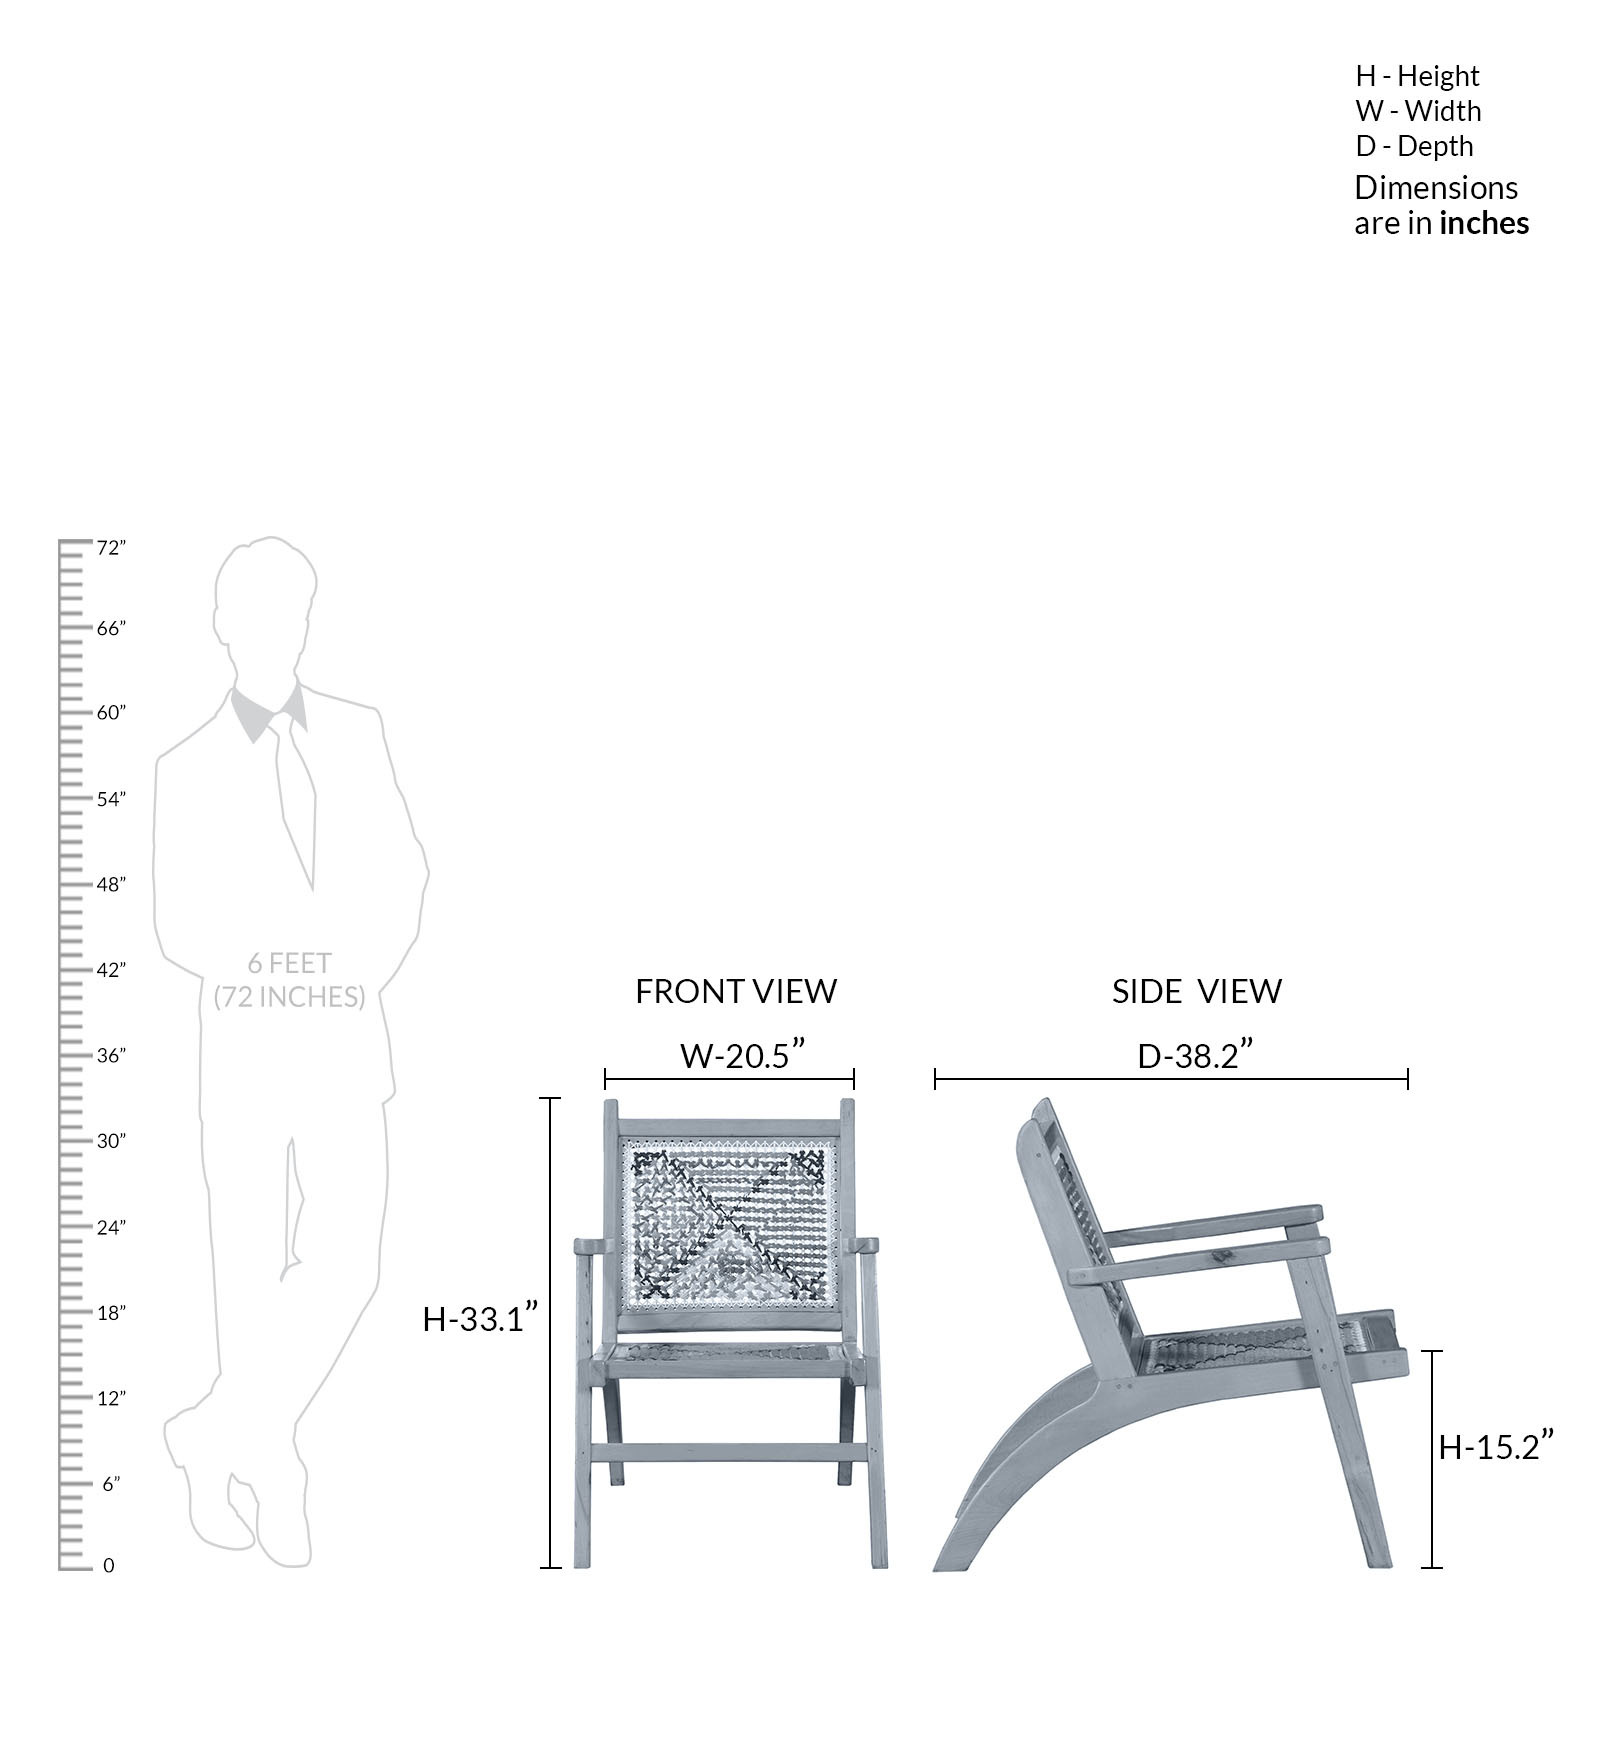Cara Arm Chair in in Multi- Color Finish by Bohemiana: (949, 1099, 1422, 1601), (552, 1076, 916, 1585)
